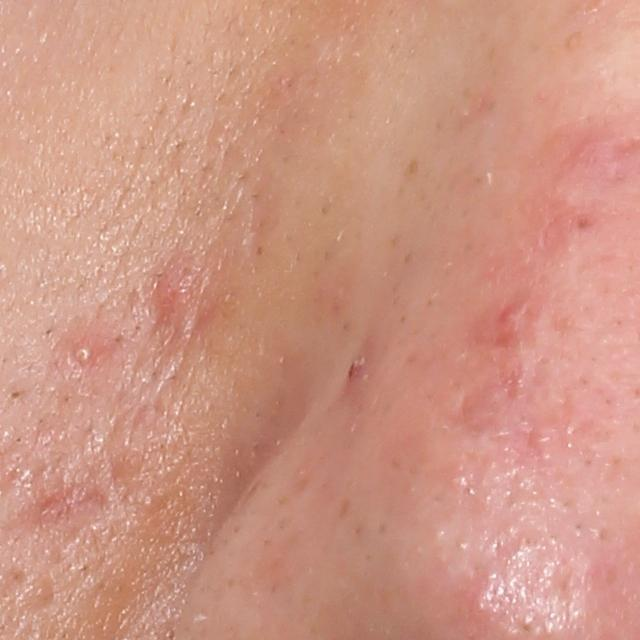atrophic_scar: (3, 476, 122, 547)
comedo: (7, 386, 23, 403)
papule: (154, 282, 196, 316)
pustule: (73, 342, 94, 363)
